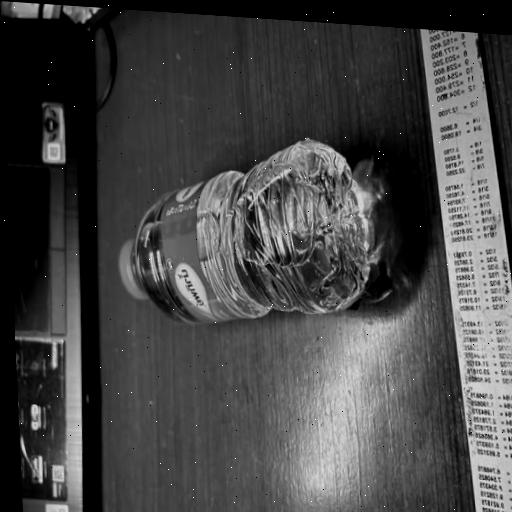ba: (93, 108, 394, 355)
